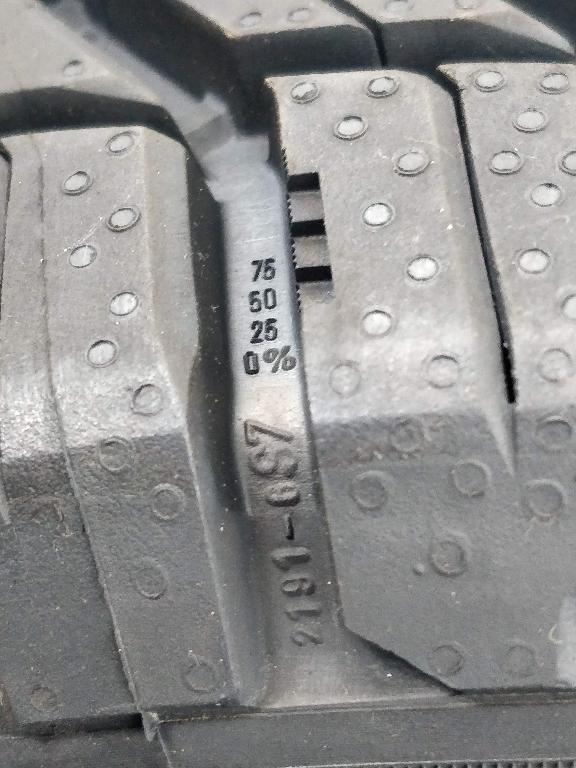temoin:100: (276, 143, 340, 340)
